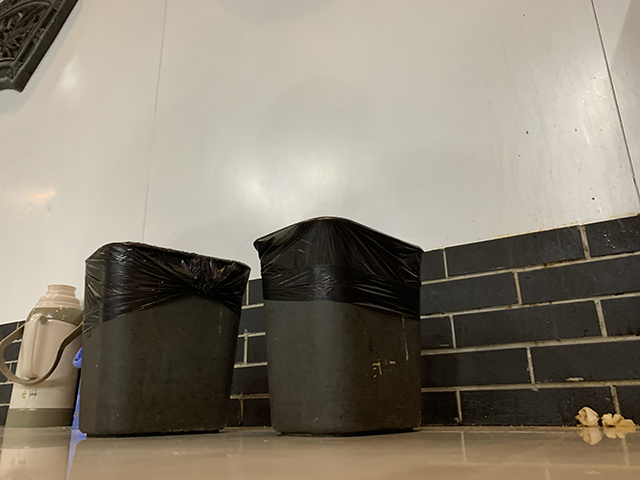trashcan: (252, 215, 426, 438), (78, 240, 253, 436)
